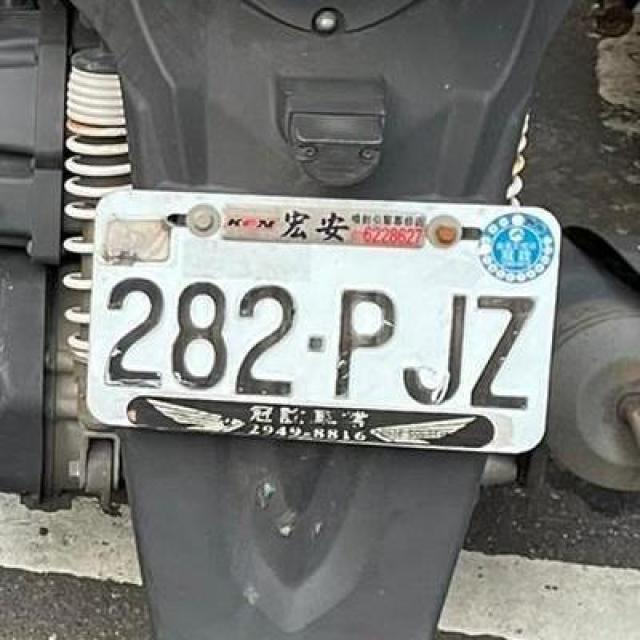W: (83, 179, 565, 466)
